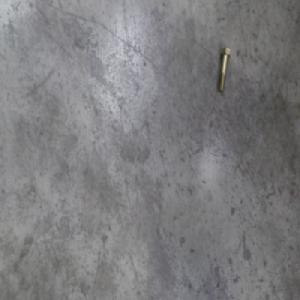Bolt: (217, 47, 231, 93)
